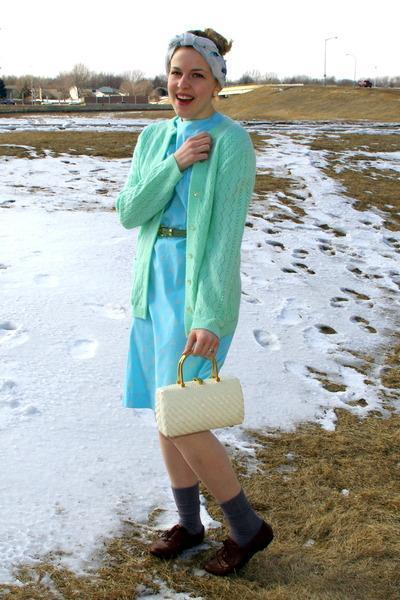bag: (153, 372, 244, 436)
hat: (169, 30, 227, 85)
jacket: (121, 113, 273, 408)
shoe: (145, 523, 273, 579)
